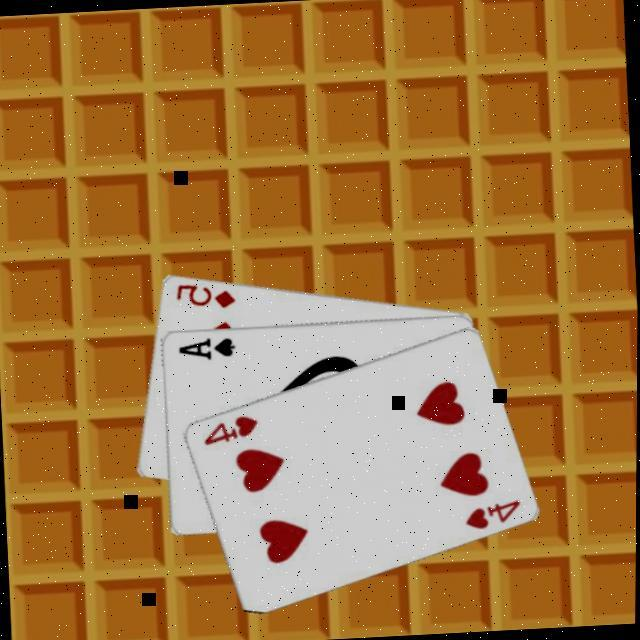4H: (200, 410, 264, 448), (463, 495, 526, 532)
5D: (174, 277, 240, 312)
AS: (177, 332, 240, 362)
